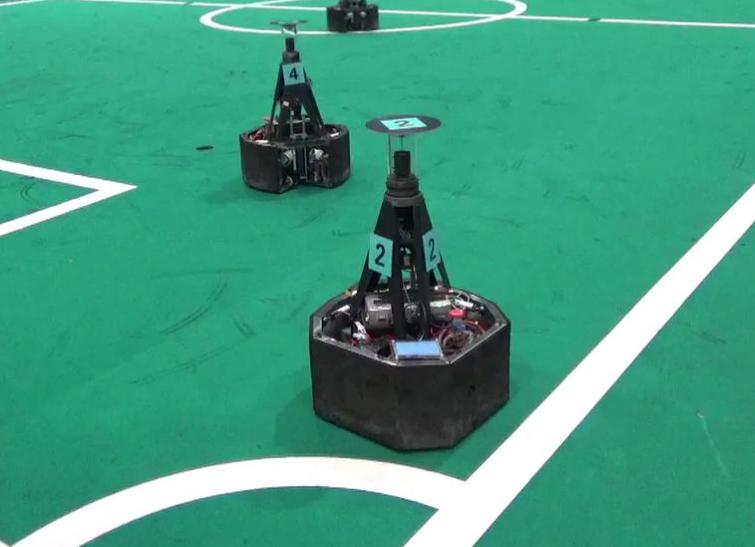robot: (305, 112, 517, 455), (237, 17, 354, 197)
